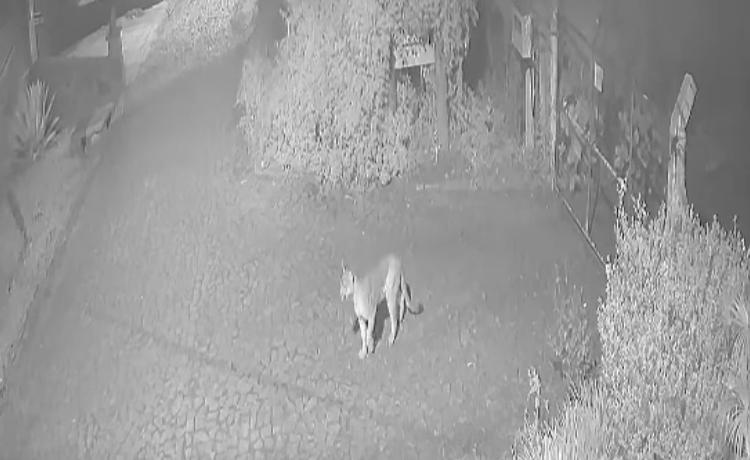OncaParda: (330, 252, 430, 357)
